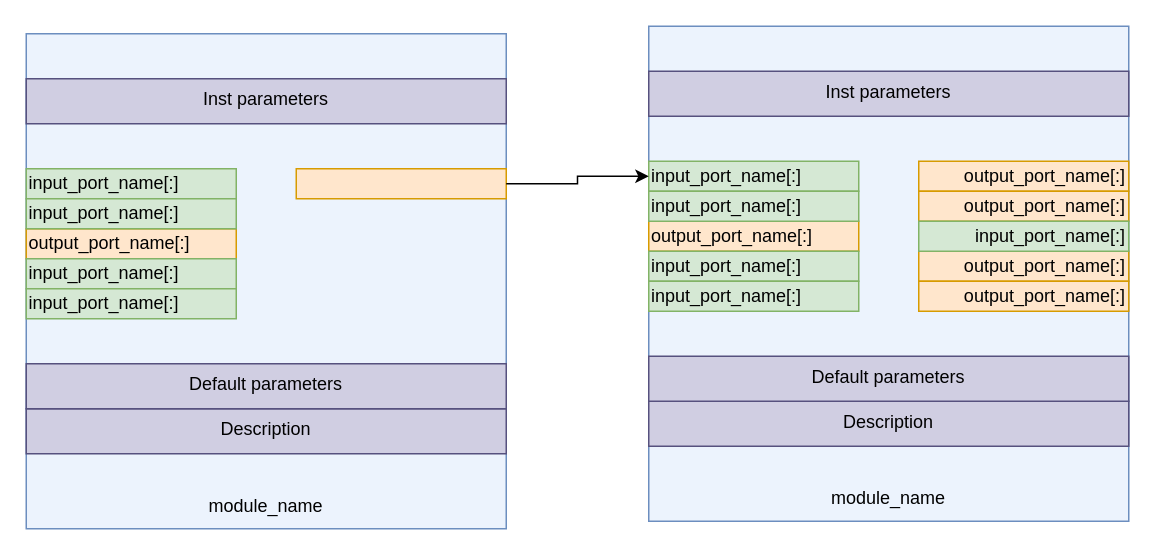
The diagram is 1155 pixels wide and 555 high, and some of its shapes have lost their labels. The box of each missing label's shape, as (x1, y1, x2, y2) in pixels:
instance_0: (25, 32, 506, 529)
instance_name: (647, 25, 1129, 521)
o_out[15:0]: (295, 167, 506, 199)
